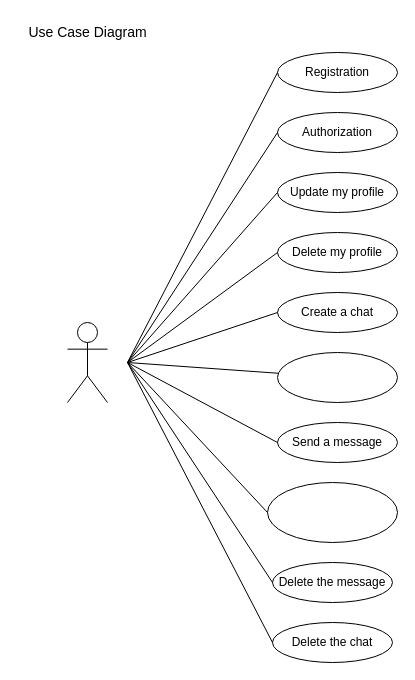
Some shapes in this 415 by 680 pixel diagram are drawn without their labels. The centre of each missing label's shape, as x and y in pixels:
"Adding a new users to the chat" goes at [337,377].
"User" goes at [87,362].
"Viewing the message history" goes at [332,512].
